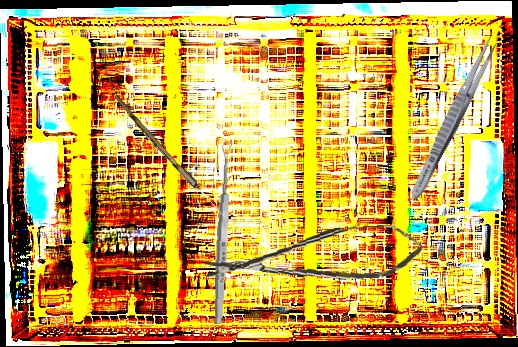Dressing Forceps: (406, 32, 502, 203)
Micro Scissor: (203, 222, 424, 290)
Surgical Spoon: (111, 94, 230, 222), (212, 139, 234, 325)
